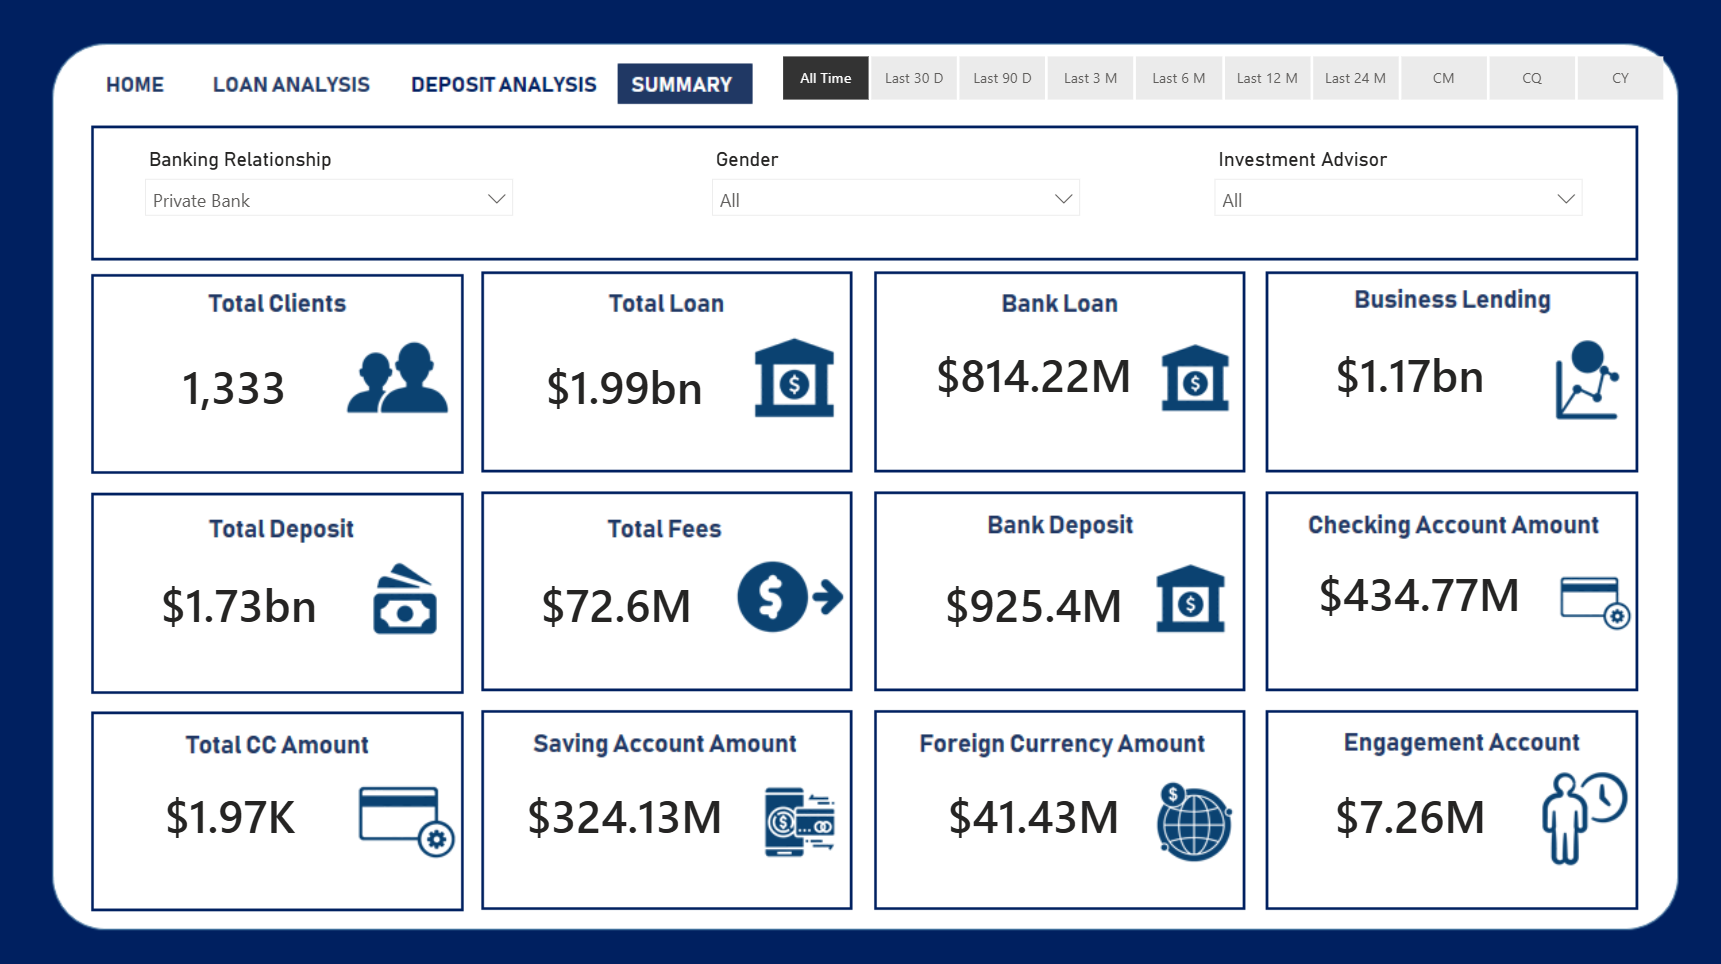

Layout of this report page (visuals, bound fields, positions):
{"tool":"powerbi","page":{"name":"Summary","canvas":[1280,720],"ordinal":3},"visuals":[{"type":"card","fields":{"Values":["DAX Measures.Engagment Length"]},"box":[946.3,546.4,198.2,114.9],"z":0},{"type":"card","fields":{"Values":["DAX Measures.Foreign Currency Account"]},"box":[667.2,546.4,198.2,114.9],"z":1000},{"type":"card","fields":{"Values":["DAX Measures.Bank Deposit"]},"box":[667.2,390.5,198.2,114.9],"z":2000},{"type":"card","fields":{"Values":["DAX Measures.Checking Accounts"]},"box":[953.4,382.3,198.2,114.9],"z":3000},{"type":"card","fields":{"Values":["DAX Measures.Bank Loan"]},"box":[667.2,220.5,198.2,114.9],"z":4000},{"type":"card","fields":{"Values":["DAX Measures.Business Lending"]},"box":[953.4,220.5,184.1,114.9],"z":5000},{"type":"card","fields":{"Values":["DAX Measures.Savings Account"]},"box":[360,546.4,207.6,114.9],"z":6000},{"type":"card","fields":{"Values":["DAX Measures.Total CC Amount"]},"box":[72.7,546.4,198.2,114.9],"z":7000},{"type":"card","fields":{"Values":["DAX Measures.Total Deposit"]},"box":[78.6,390.5,198.2,114.9],"z":8000},{"type":"card","fields":{"Values":["DAX Measures.Total Fees"]},"box":[365.9,390.5,184.1,114.9],"z":9000},{"type":"card","fields":{"Values":["DAX Measures.Total Clients"]},"box":[75,228.7,198.2,114.9],"z":10000},{"type":"card","fields":{"Values":["DAX Measures.Total Loan"]},"box":[365.9,228.7,195.8,114.9],"z":11000},{"type":"slicer","fields":{"Values":["Banking Relationship.Banking Relationship"]},"box":[98.5,104.3,292.9,75.7],"z":12000},{"type":"slicer","fields":{"Values":["Gender.Gender"]},"box":[518.9,104.3,292.9,75.7],"z":13000},{"type":"slicer","fields":{"Values":["Investment Advisor.Investment Advisor"]},"box":[891.3,104.3,292.9,75.7],"z":14000},{"type":"slicer","fields":{"Values":["Period.Name"]},"box":[555.2,34.6,702.1,46.6],"z":15000},{"type":"actionButton","box":[72.8,44.2,58.5,31],"z":16000},{"type":"actionButton","box":[306.9,44.7,119.4,31],"z":17000},{"type":"actionButton","box":[297.9,44.6,147.8,30.5],"z":18000},{"type":"actionButton","box":[157.1,44.6,125.5,30.5],"z":19000}]}

Visuals, with their boxes in screenshot pixels (x1, y1, x2, y2), scaled from the page's 1280x720 canvas onto the 1721x964 screenshot:
card - DAX Measures.Engagment Length: [1272, 732, 1539, 885]
card - DAX Measures.Foreign Currency Account: [897, 732, 1164, 885]
card - DAX Measures.Bank Deposit: [897, 523, 1164, 677]
card - DAX Measures.Checking Accounts: [1282, 512, 1548, 666]
card - DAX Measures.Bank Loan: [897, 295, 1164, 449]
card - DAX Measures.Business Lending: [1282, 295, 1529, 449]
card - DAX Measures.Savings Account: [484, 732, 763, 885]
card - DAX Measures.Total CC Amount: [98, 732, 364, 885]
card - DAX Measures.Total Deposit: [106, 523, 372, 677]
card - DAX Measures.Total Fees: [492, 523, 739, 677]
card - DAX Measures.Total Clients: [101, 306, 367, 460]
card - DAX Measures.Total Loan: [492, 306, 755, 460]
slicer - Banking Relationship.Banking Relationship: [132, 140, 526, 241]
slicer - Gender.Gender: [698, 140, 1091, 241]
slicer - Investment Advisor.Investment Advisor: [1198, 140, 1592, 241]
slicer - Period.Name: [746, 46, 1690, 109]
actionButton: [98, 59, 177, 101]
actionButton: [413, 60, 573, 101]
actionButton: [401, 60, 599, 101]
actionButton: [211, 60, 380, 101]
